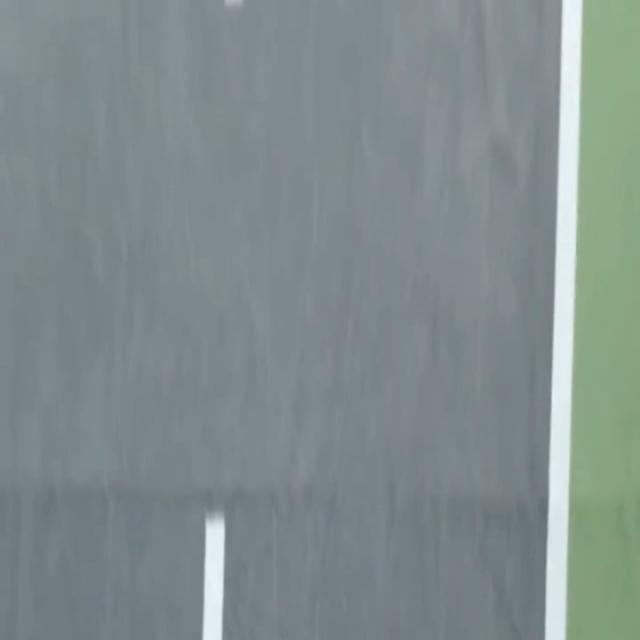center: (202, 513, 223, 639)
right: (545, 0, 582, 639)
